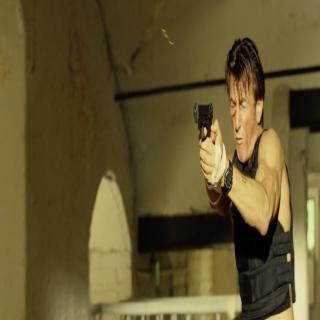gun: (192, 101, 223, 186)
